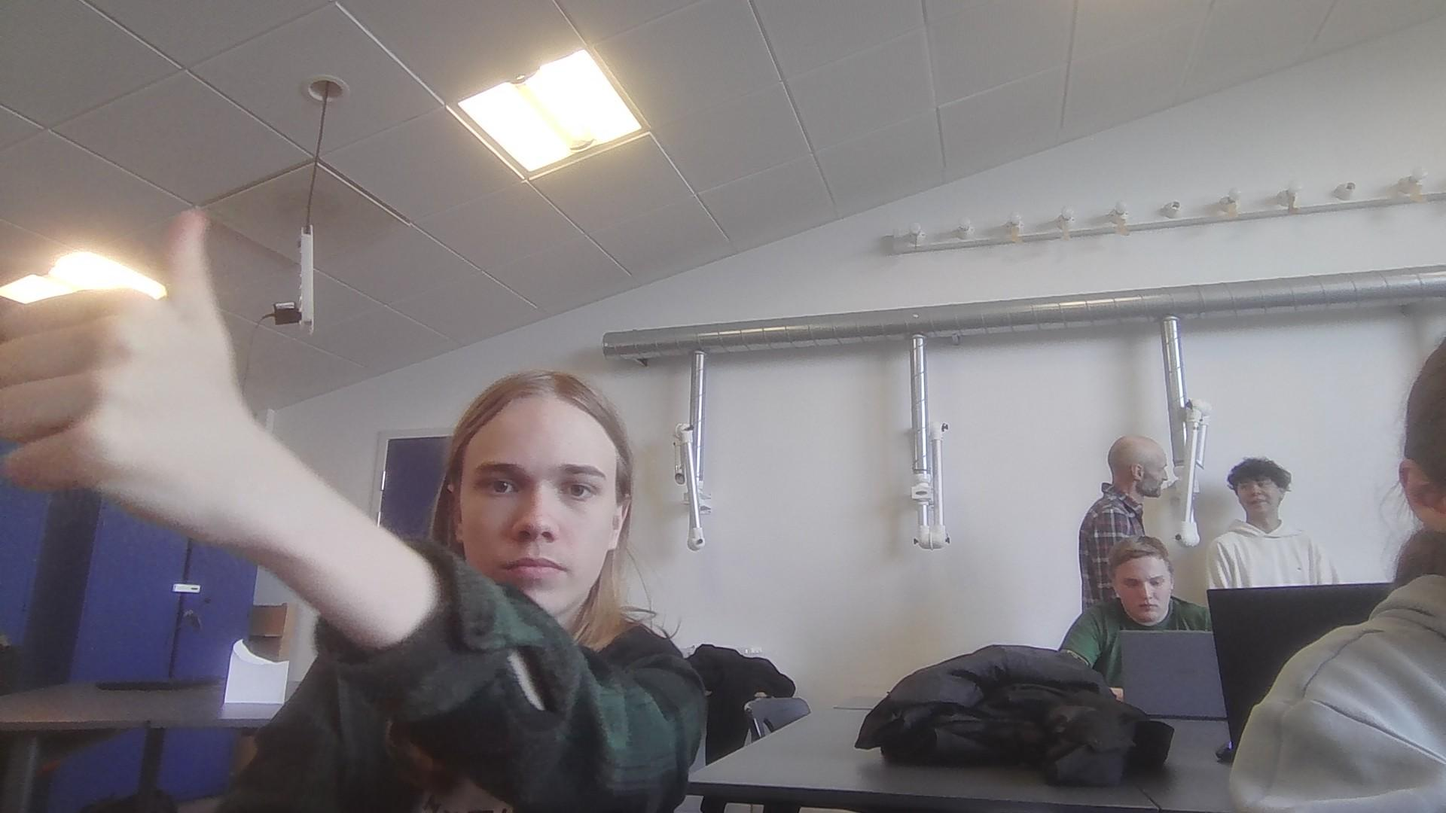thumbs up: (0, 208, 252, 530)
